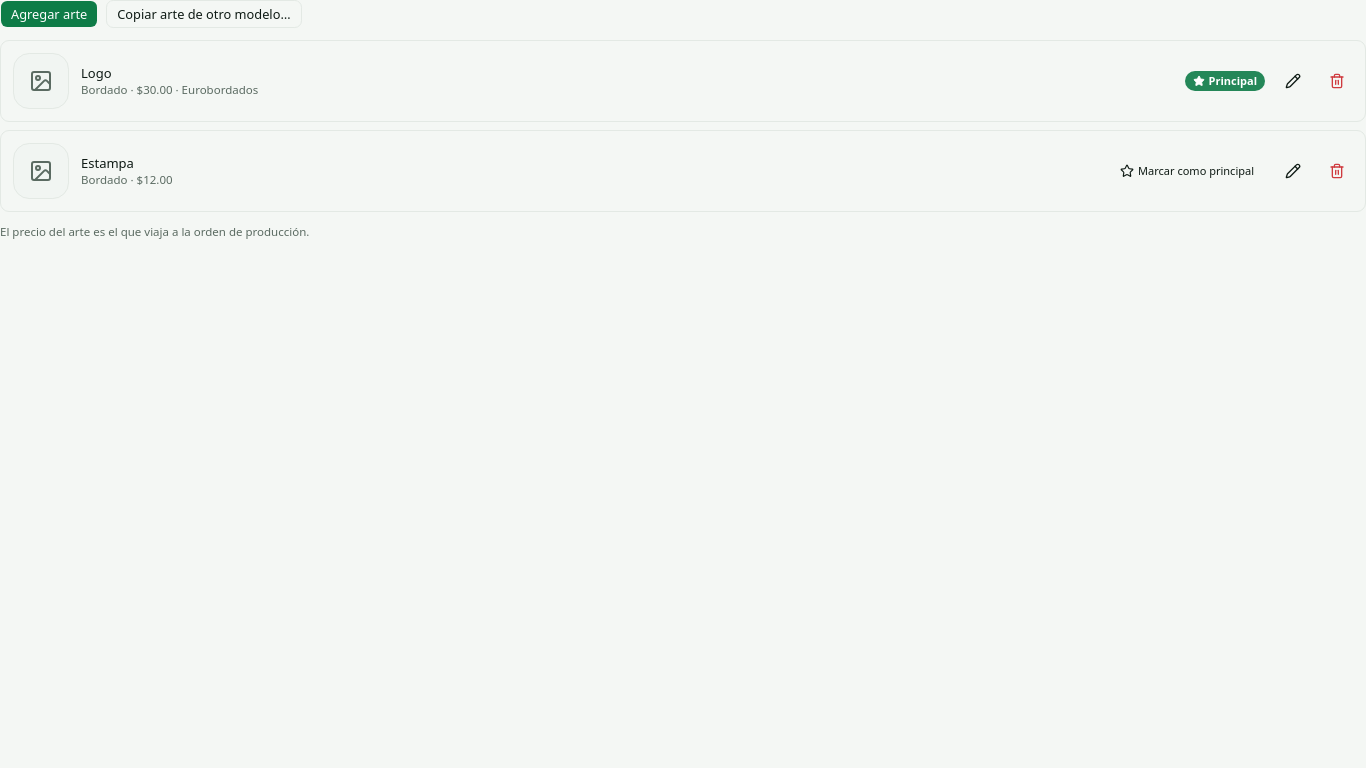
it: <SeccionArte> › ofrece «copiar arte de otro modelo» (la conveniencia que daba el catálogo)
Click the button with test id "abrir-copiar-arte" at (204, 14), box [106,0,302,28]
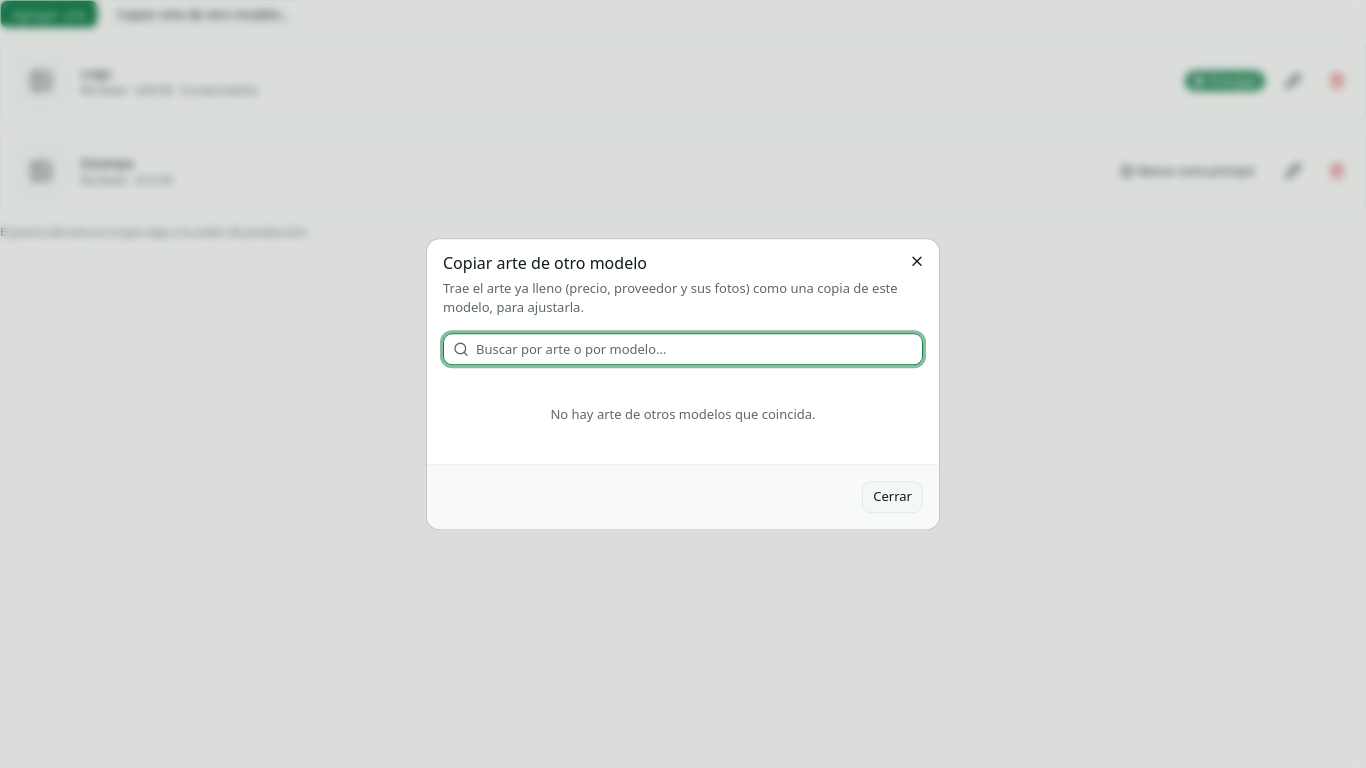
Check: the dialog with test id "dialogo-copiar-arte" is shown, box [427,239,939,529]
